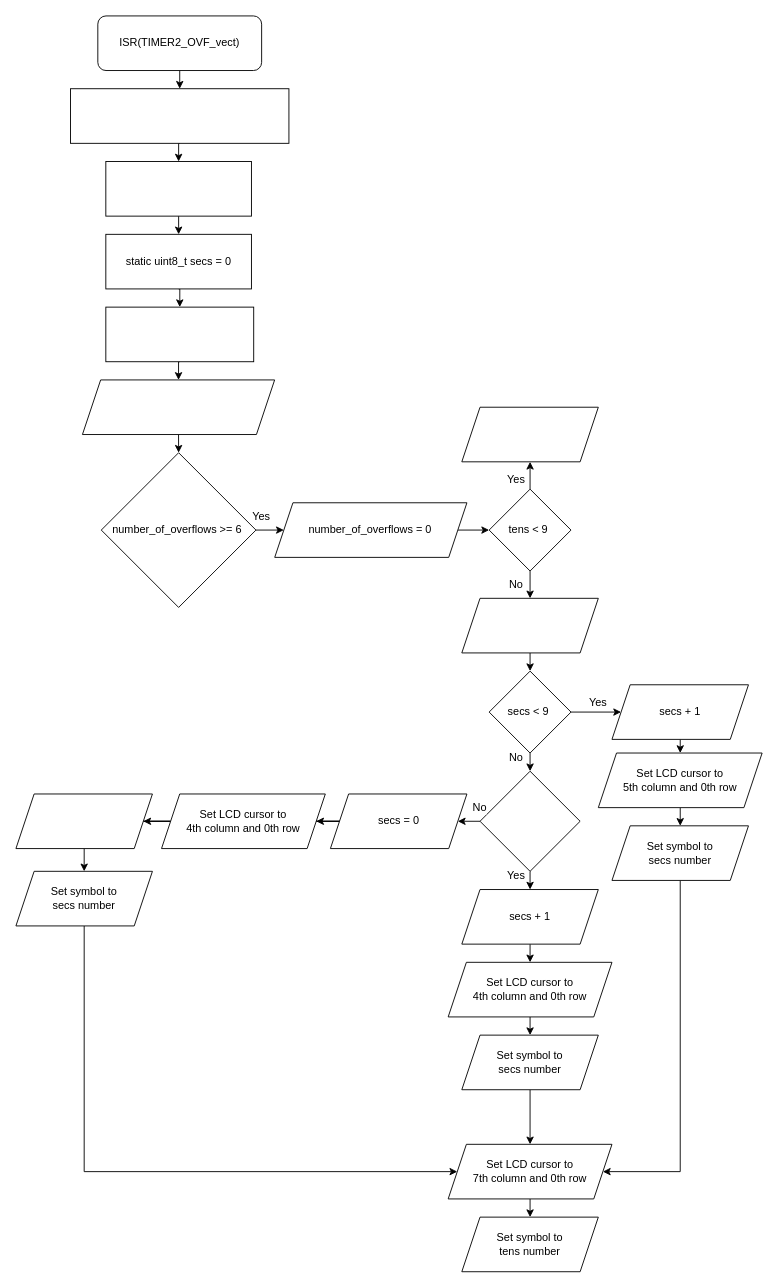
The diagram is 778 pixels wide and 1288 high, and some of its shapes have lost their labels. Here are the shapes that lost their labels. From the top down, the box of each, then its label:
(70, 88, 289, 143): static uint8_t number_of_overflows = 0
(105, 161, 251, 216): static uint8_t tens = 0
(105, 306, 254, 362): char lcd_string[2] = " "
(82, 379, 275, 435): number_of_overflows + 1
(461, 406, 598, 462): tens + 1
(461, 597, 598, 653): tens = 0
(15, 793, 152, 849): Set symbol to 0
(479, 770, 580, 871): secs >= 9 and secs < 59
